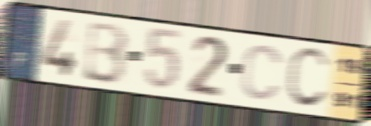2: (187, 34, 231, 101)
4: (40, 17, 78, 79)
5: (142, 26, 183, 95)
B: (80, 19, 131, 87)
C: (284, 45, 333, 112), (239, 42, 286, 103)
